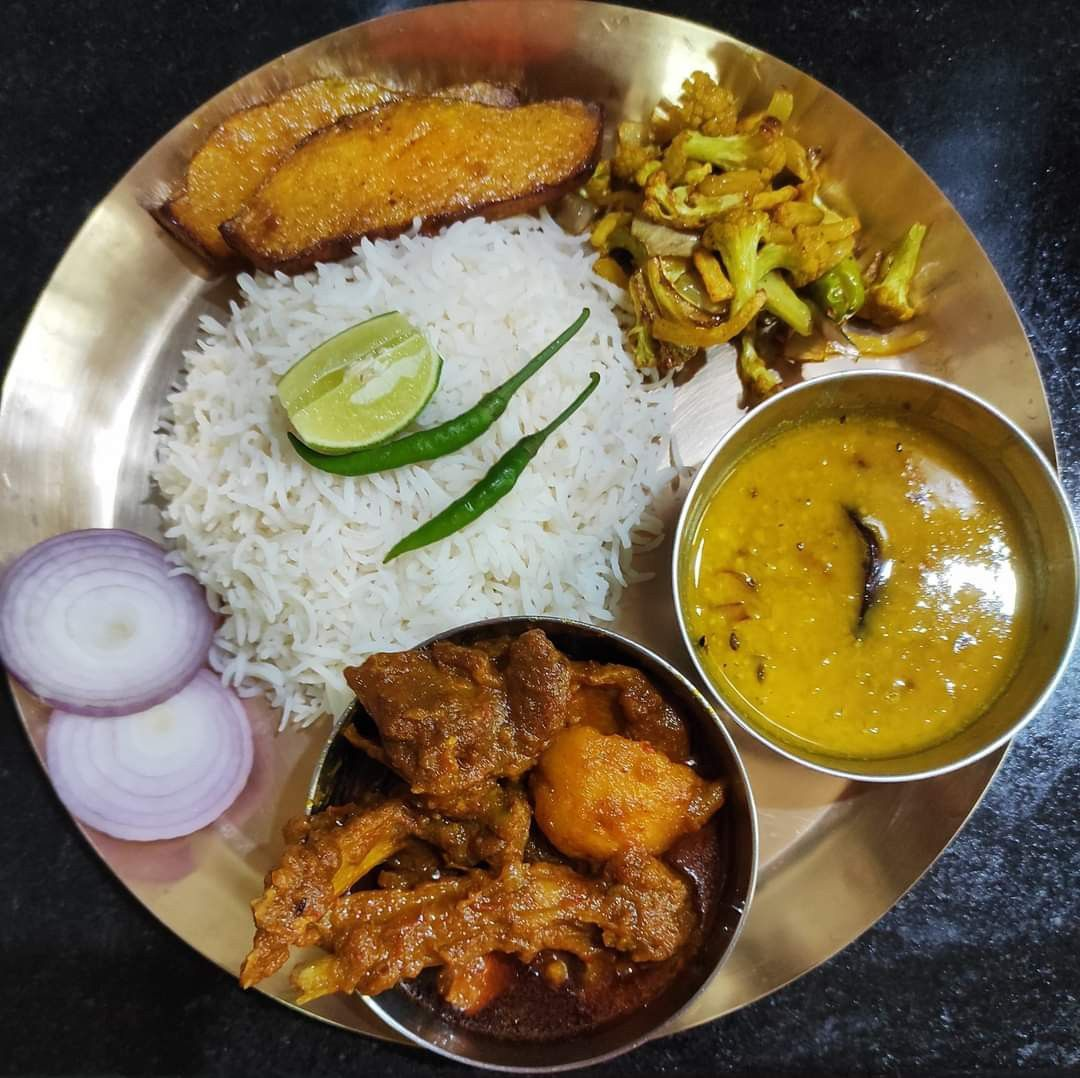bhat: (169, 205, 686, 714)
dal: (710, 404, 1046, 756)
sabji: (593, 93, 935, 382)
